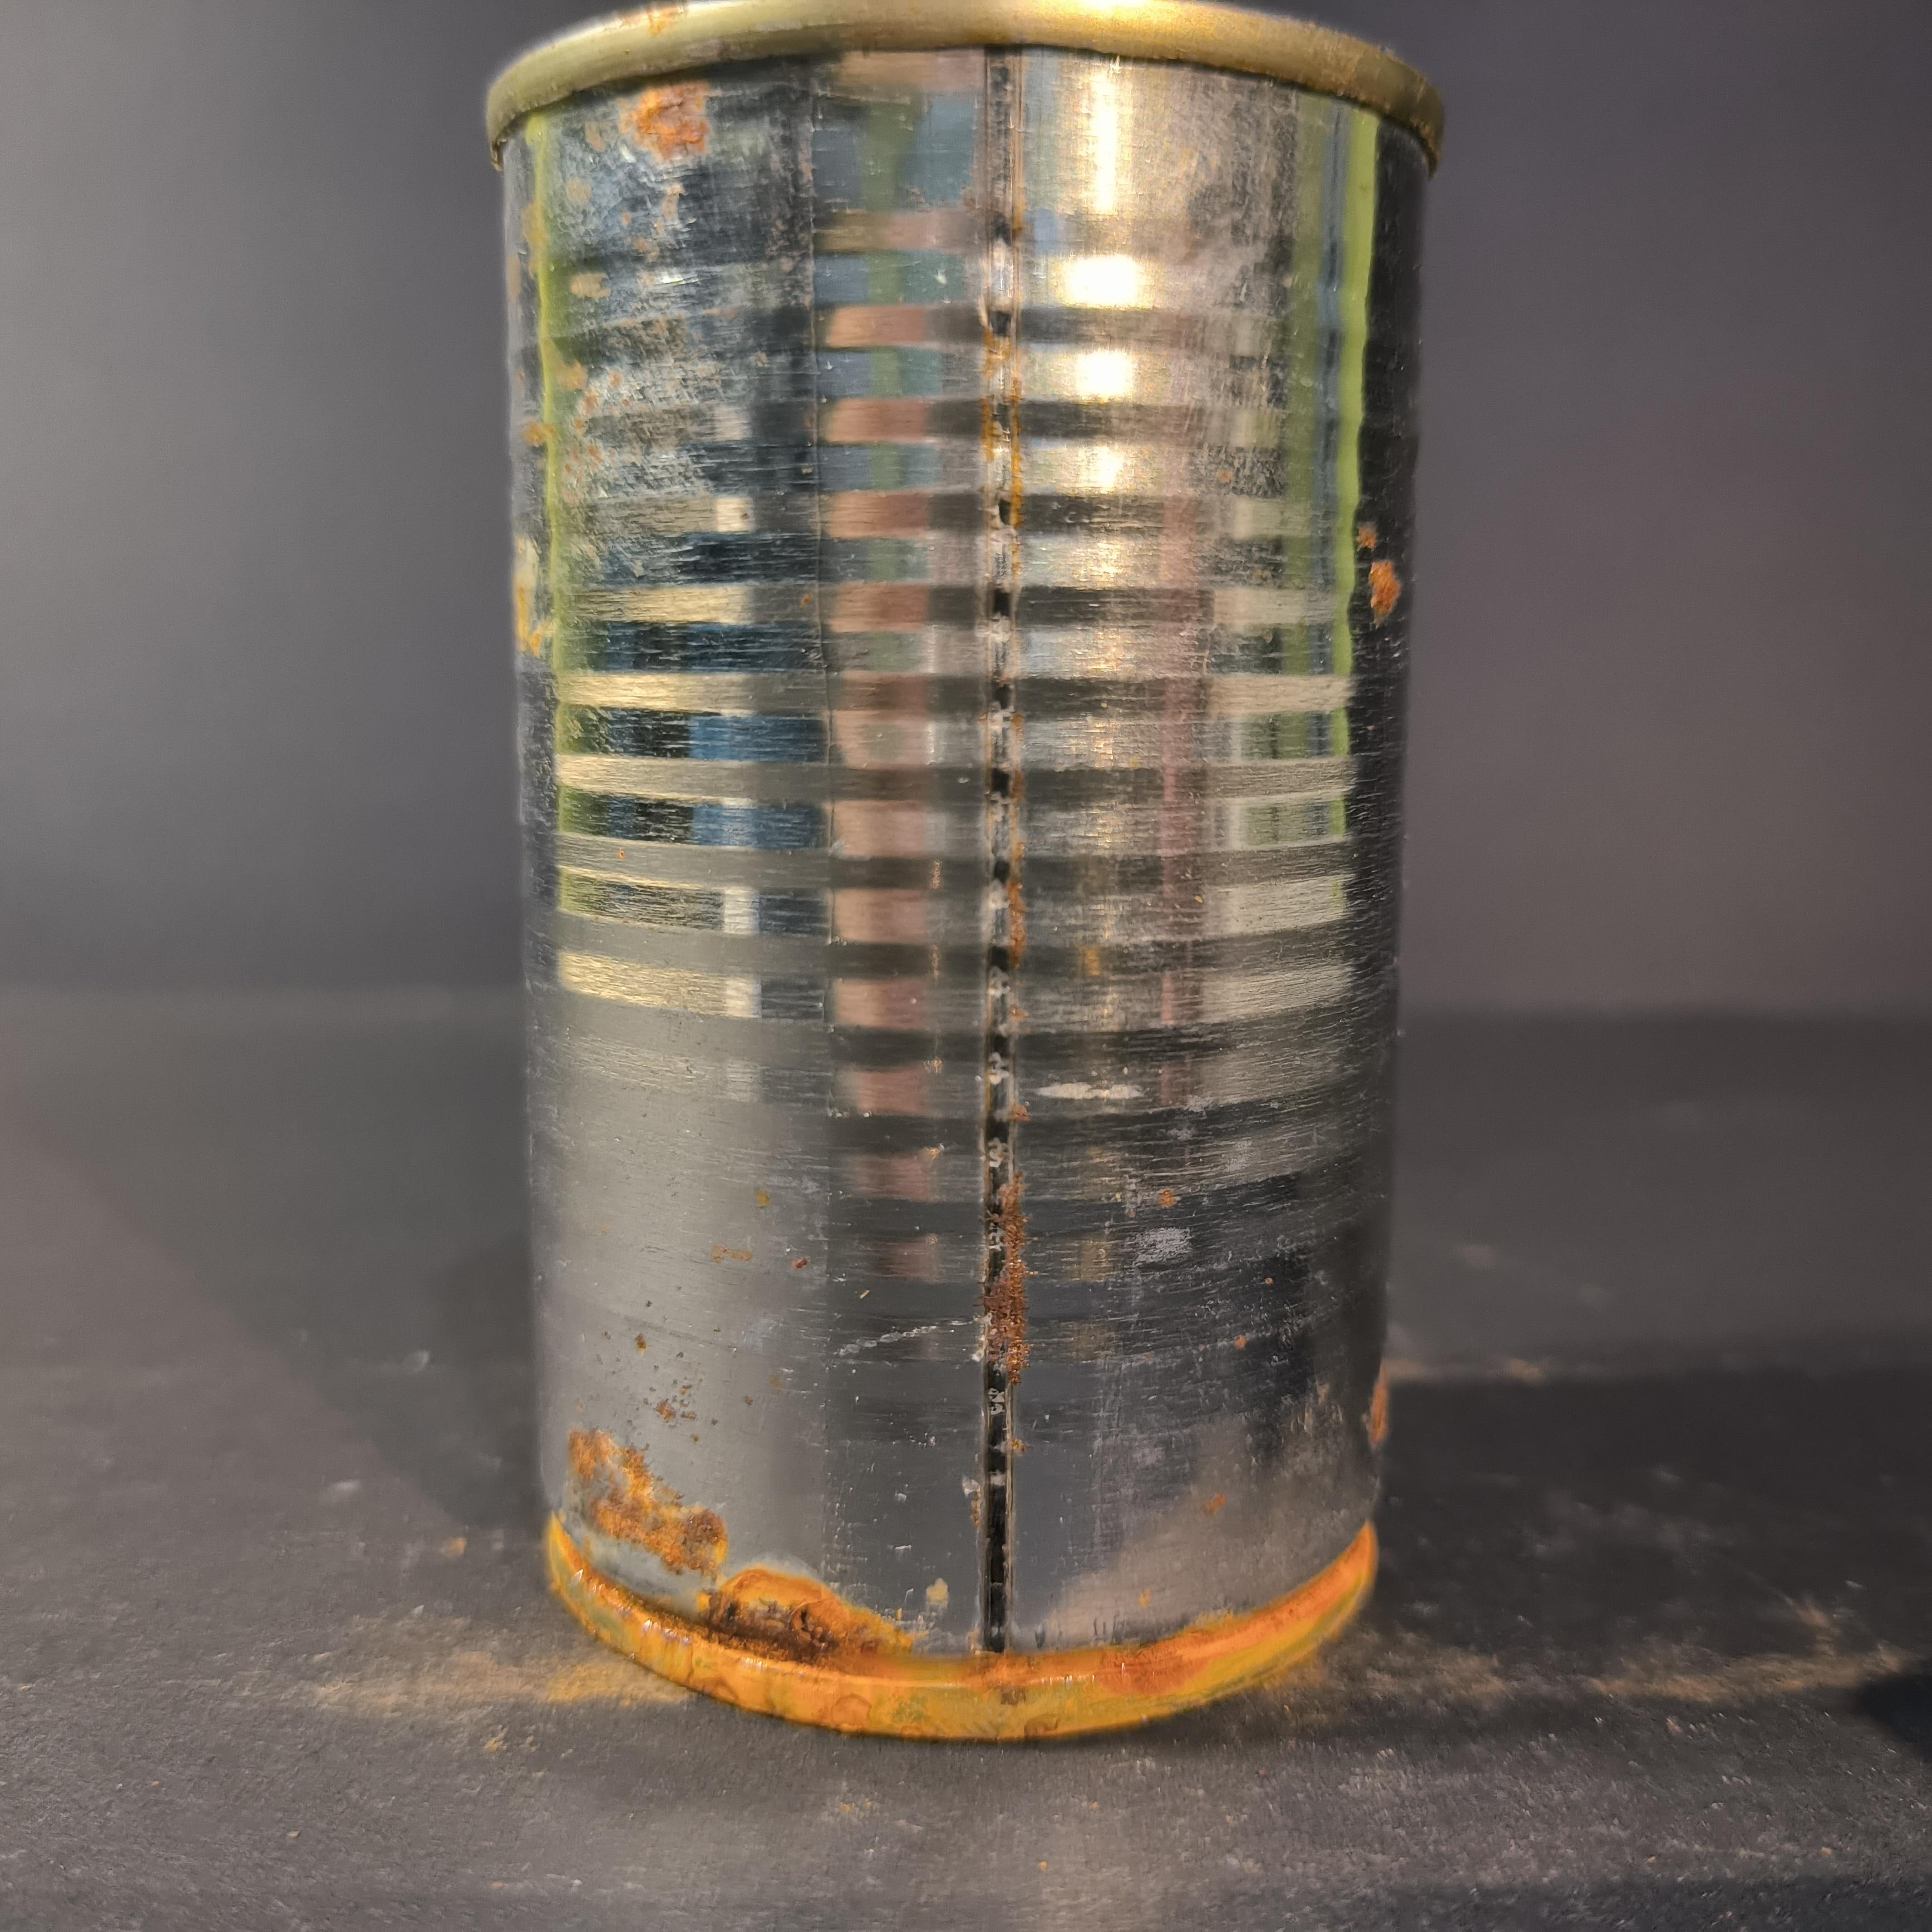Rusted: (446, 0, 1444, 1775)
